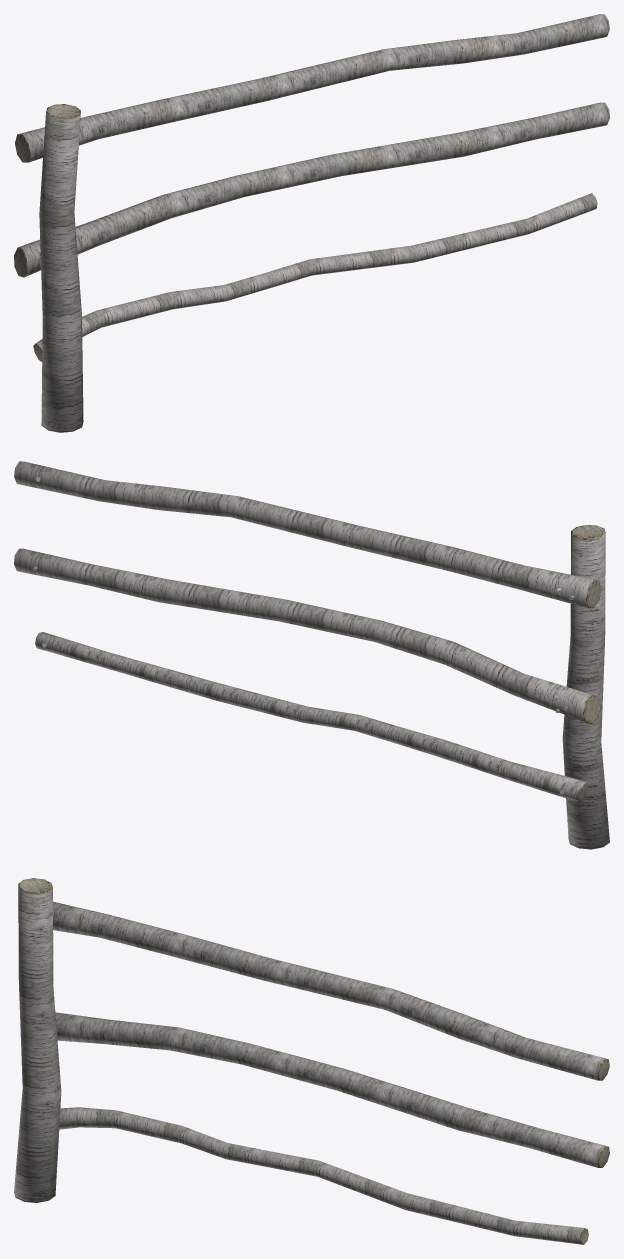
File: Birch_tree_fence_C.fbx
The picture shows the model from 3 angles, top to bottom: view 1: azimuth 30°, elevation 25°; view 2: azimuth 150°, elevation 25°; view 3: azimuth 330°, elevation 25°; orthographic projection.
Visible parts, largest first — view 1: Birch_tree_fence_C; view 2: Birch_tree_fence_C; view 3: Birch_tree_fence_C.
Boxes of the visible parts, box(x1,y1,x2,y2) form: Birch_tree_fence_C: box(14, 14, 609, 432); Birch_tree_fence_C: box(14, 461, 609, 849); Birch_tree_fence_C: box(14, 878, 609, 1244).
Size of what is drawn, in the model's own units: 2.2 by 1.13 by 0.2525.
